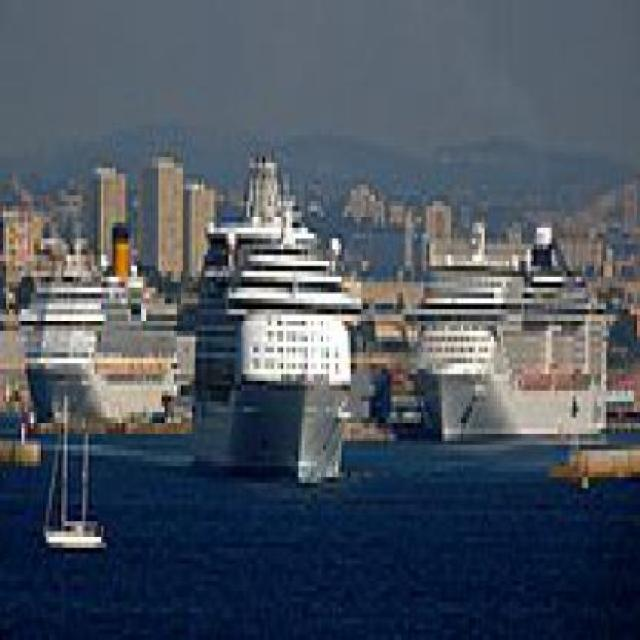cruise: (175, 153, 373, 506), (410, 207, 627, 467), (20, 223, 191, 457)
